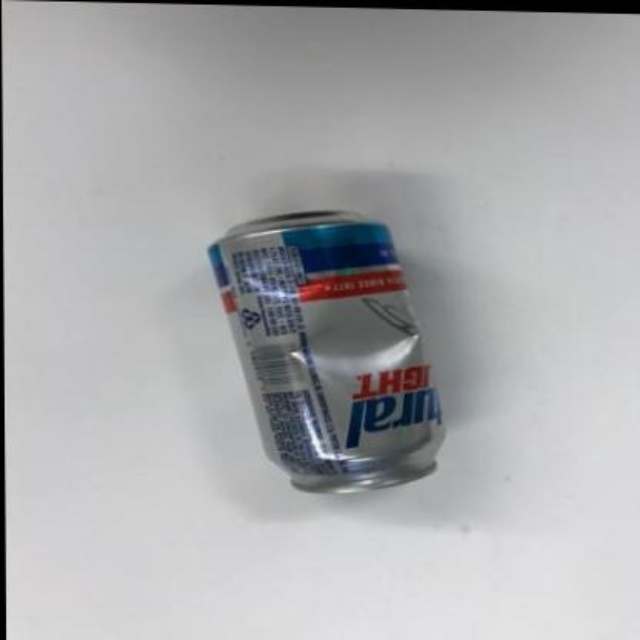trash: (208, 211, 443, 491)
